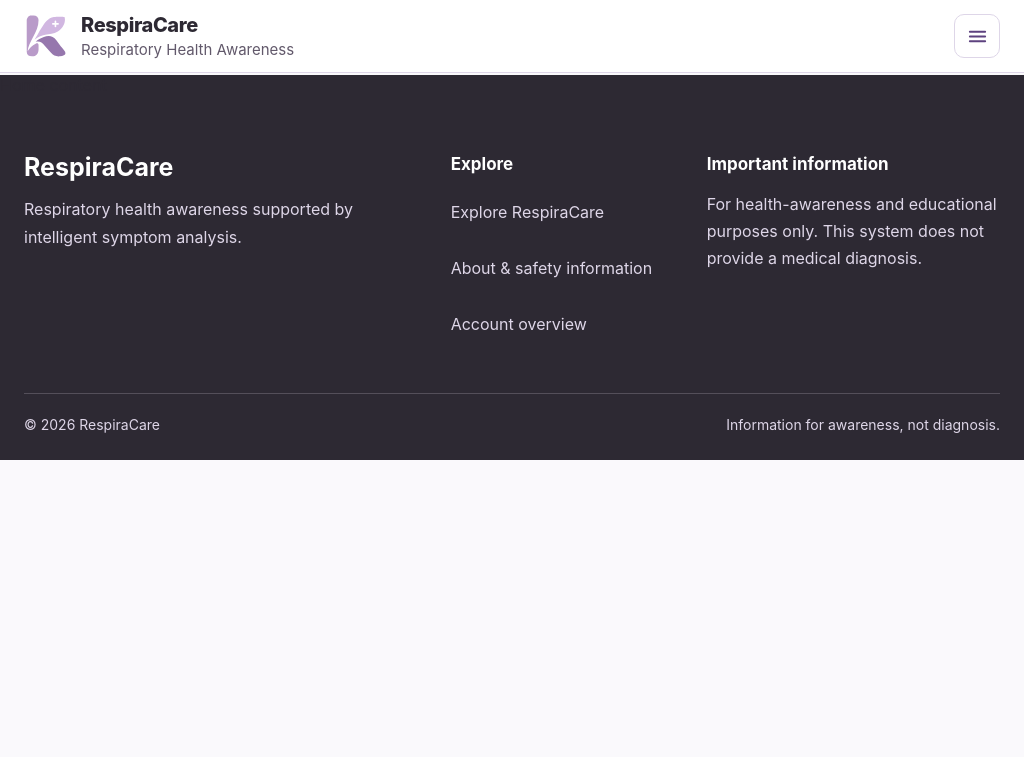
Test: role-based application navigation › shows only patient links in the patient mobile menu
Click the button named "Open navigation menu" at x=977, y=36, box [954,14,1000,58]
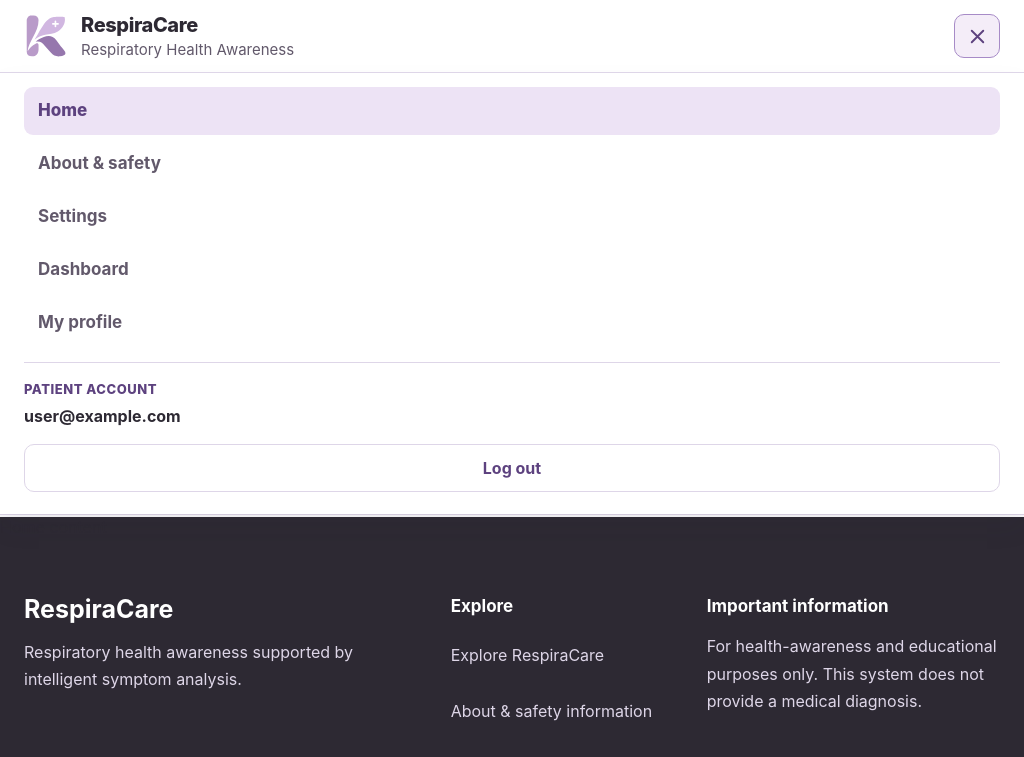
Result: the link "Dashboard" is shown at [38,259,129,279]
